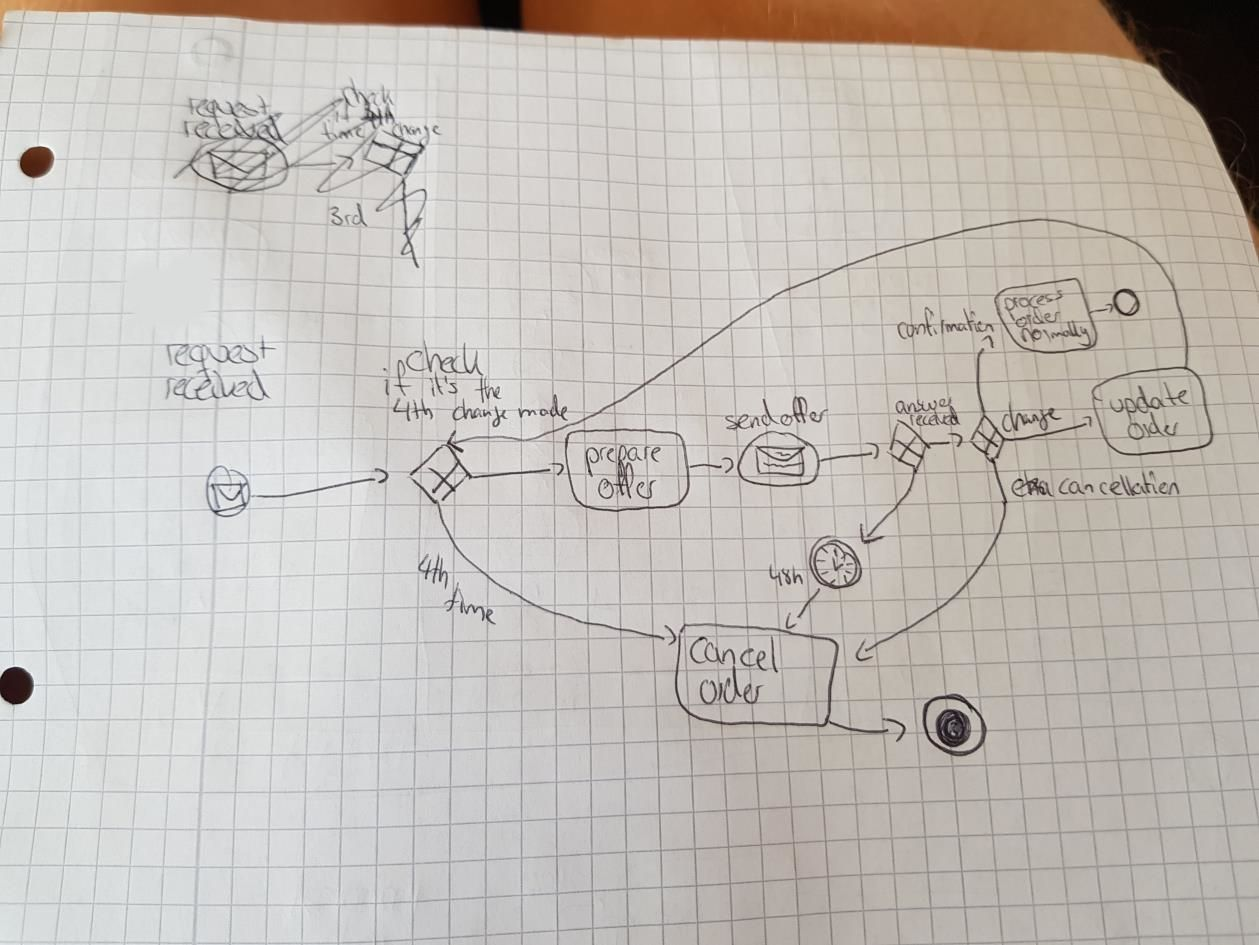48h: (765, 560, 809, 588)
4th: (417, 554, 454, 585), (398, 394, 431, 420)
Cancel: (689, 634, 781, 673)
answer: (896, 391, 951, 421)
cancellation: (1060, 469, 1185, 499)
change: (1001, 401, 1064, 428), (452, 401, 514, 424)
check: (417, 348, 473, 378)
confirmation: (889, 313, 992, 341)
if: (379, 348, 407, 404)
it's: (417, 371, 470, 403)
mode: (513, 400, 569, 419)
normally: (1016, 325, 1093, 342)
offer: (582, 463, 665, 509), (770, 390, 831, 437)
order: (1121, 407, 1181, 447), (697, 677, 763, 707), (1001, 307, 1069, 331)
prepare: (583, 444, 661, 471)
process: (995, 285, 1070, 319)
received: (155, 368, 279, 397), (900, 404, 959, 436)
request: (164, 336, 273, 370)
send: (711, 403, 782, 434)
the: (465, 373, 510, 406)
time: (441, 586, 501, 630)
update: (1114, 381, 1193, 409)
